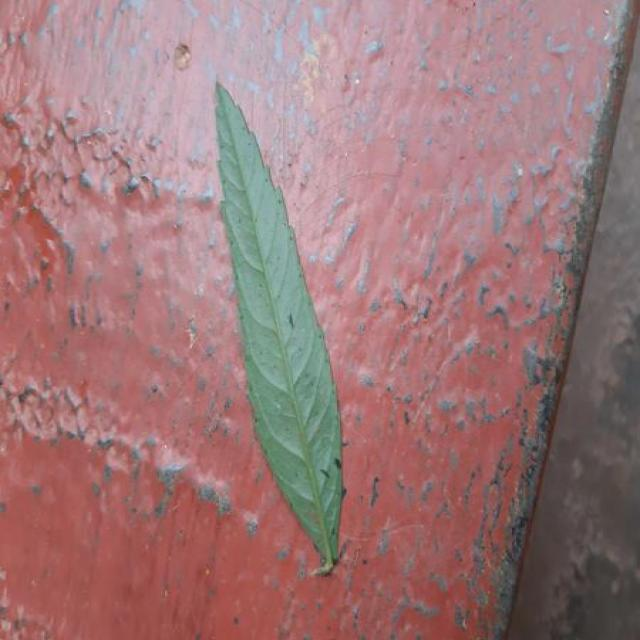marigold: (215, 84, 343, 574)
